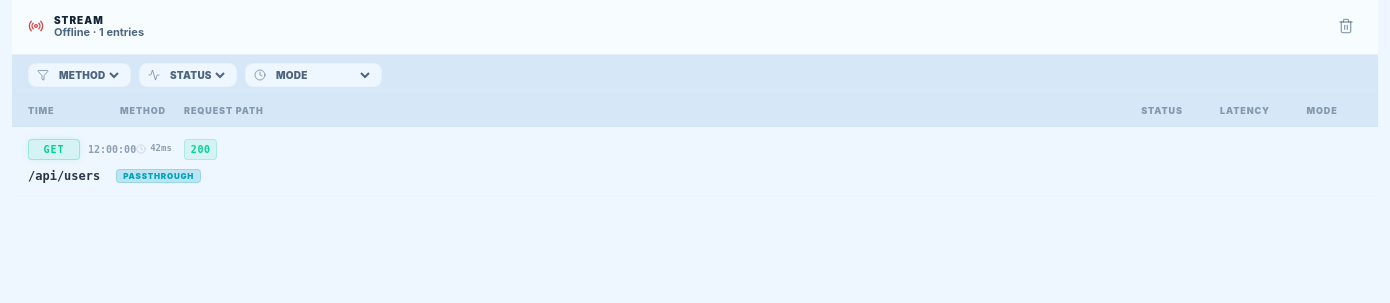
Test: ActivityFeed › shows "No Matches" when filters exclude all entries
Note: Filter by POST method — no entries match
Select "POST" in the 1st dropdown. click: (88, 75)
box: [55, 68, 122, 82]
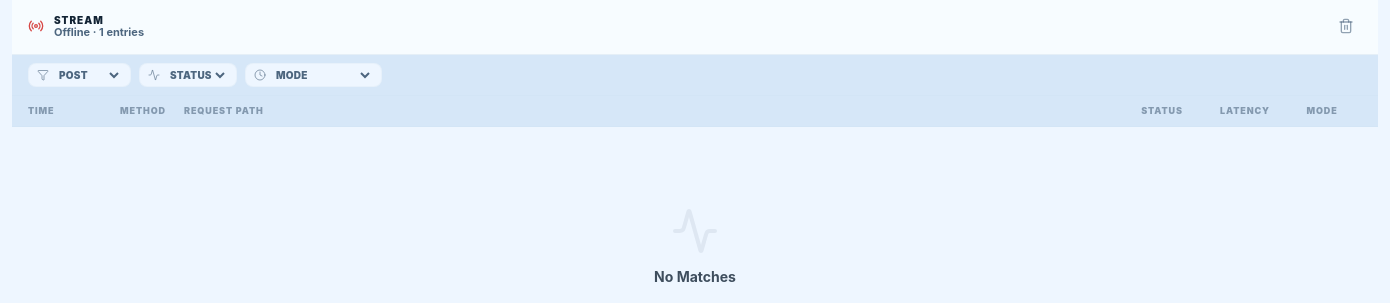
Expected: the text "No Matches" is shown, [654, 266, 736, 286]
